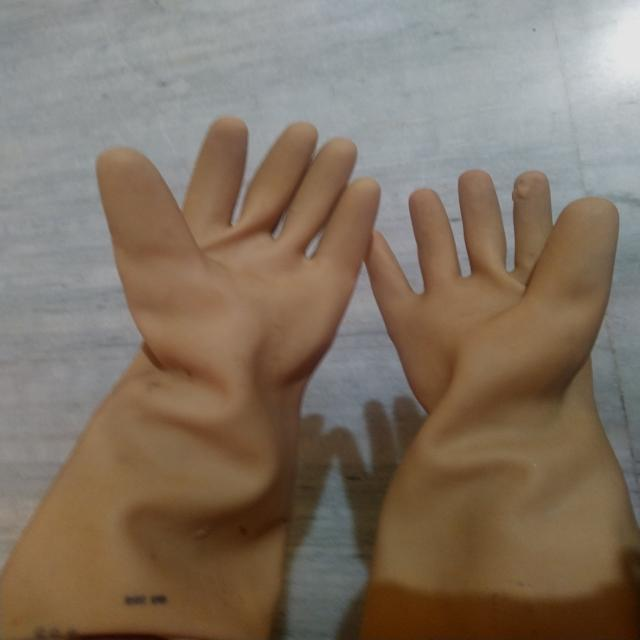glove: (2, 110, 387, 640), (363, 167, 639, 640)
